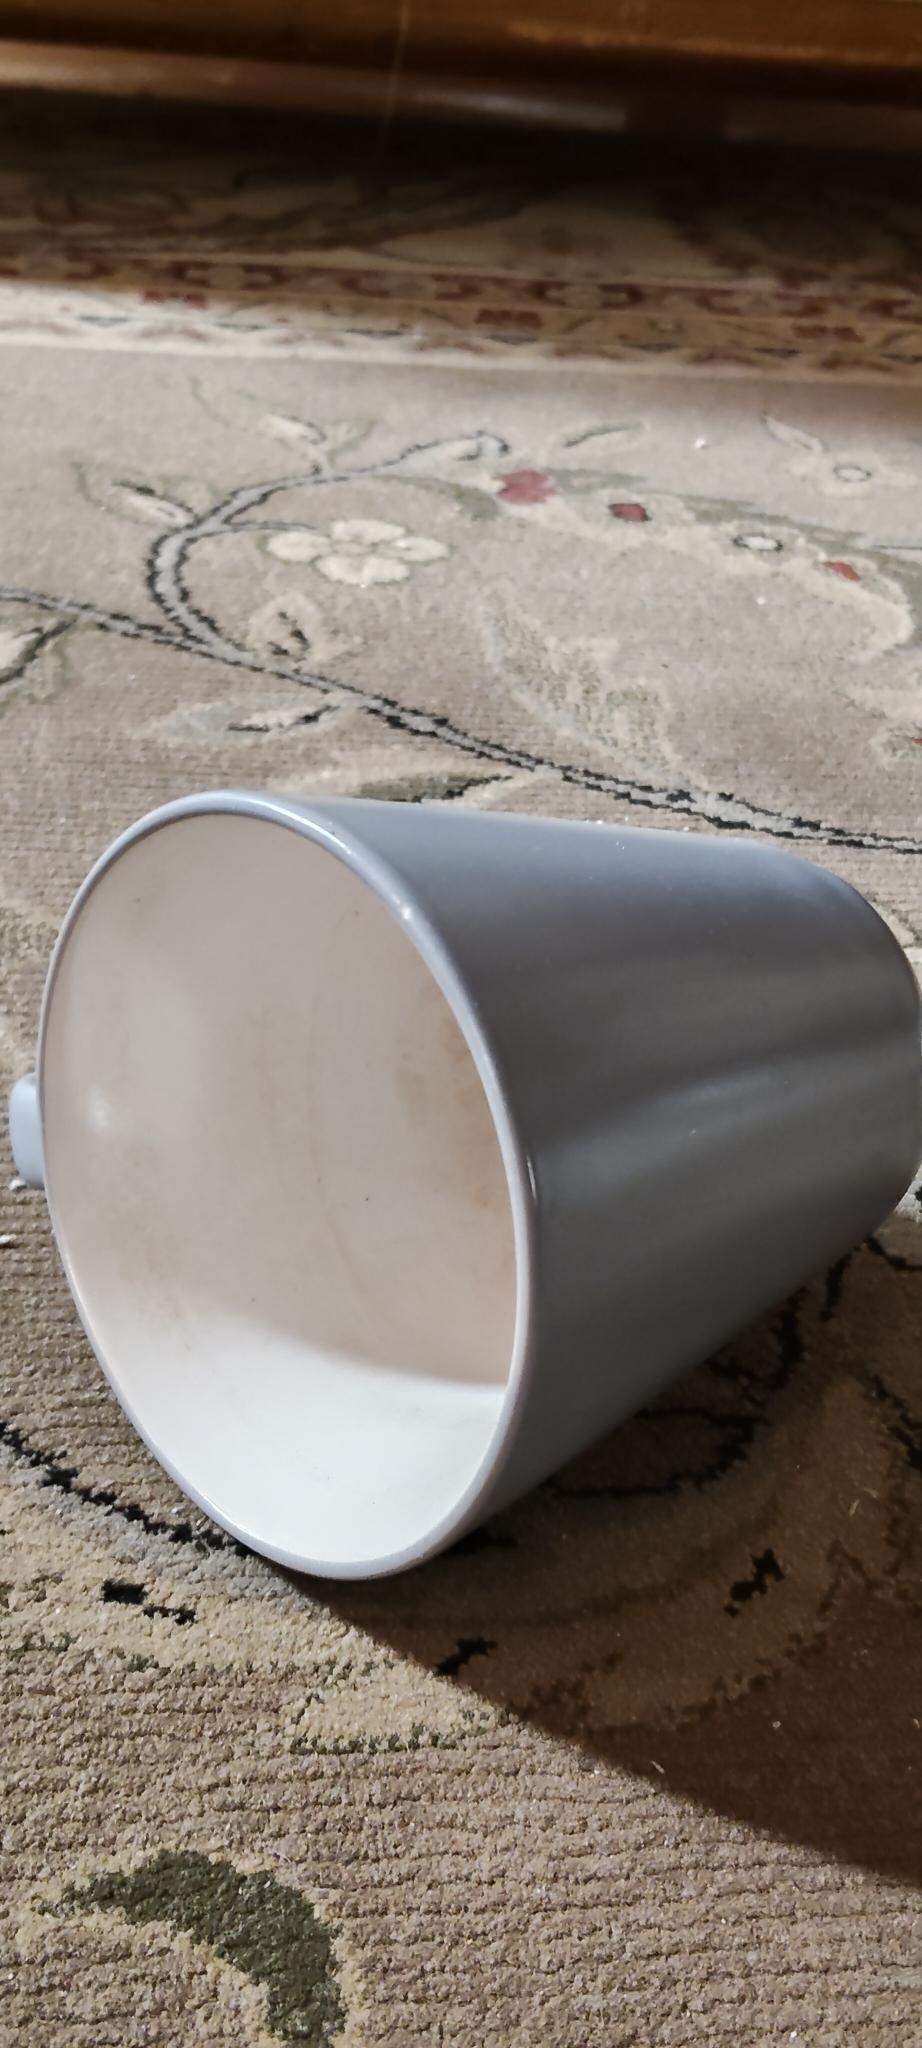Mug: (0, 789, 922, 1582)
